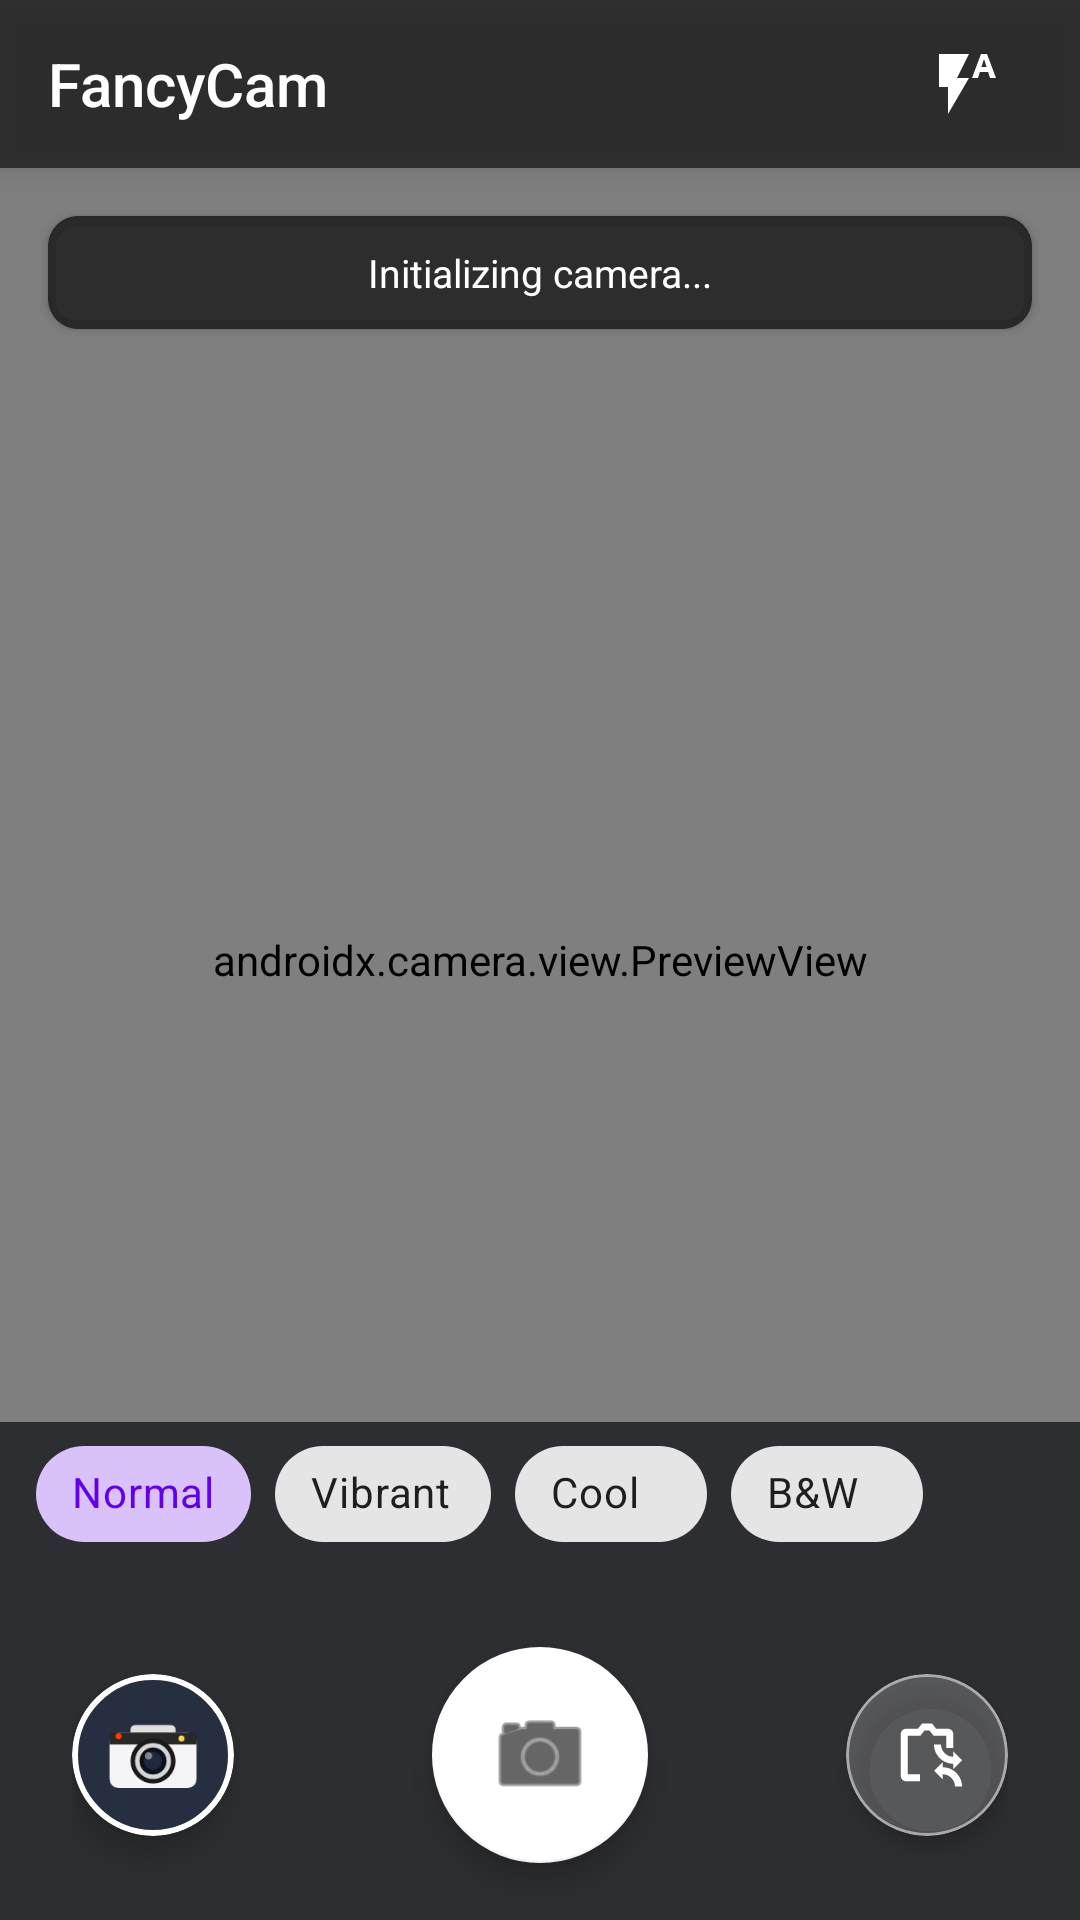

Icons on this 1080*1920 Android screen, each with the point to tap as (x,y):
Switch Camera: (927,1755)
Take Photo: (540,1755)
Toggle Flash: (967,84)
